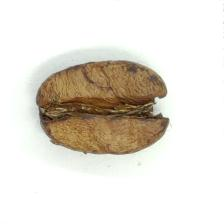NG: (37, 60, 168, 154)
